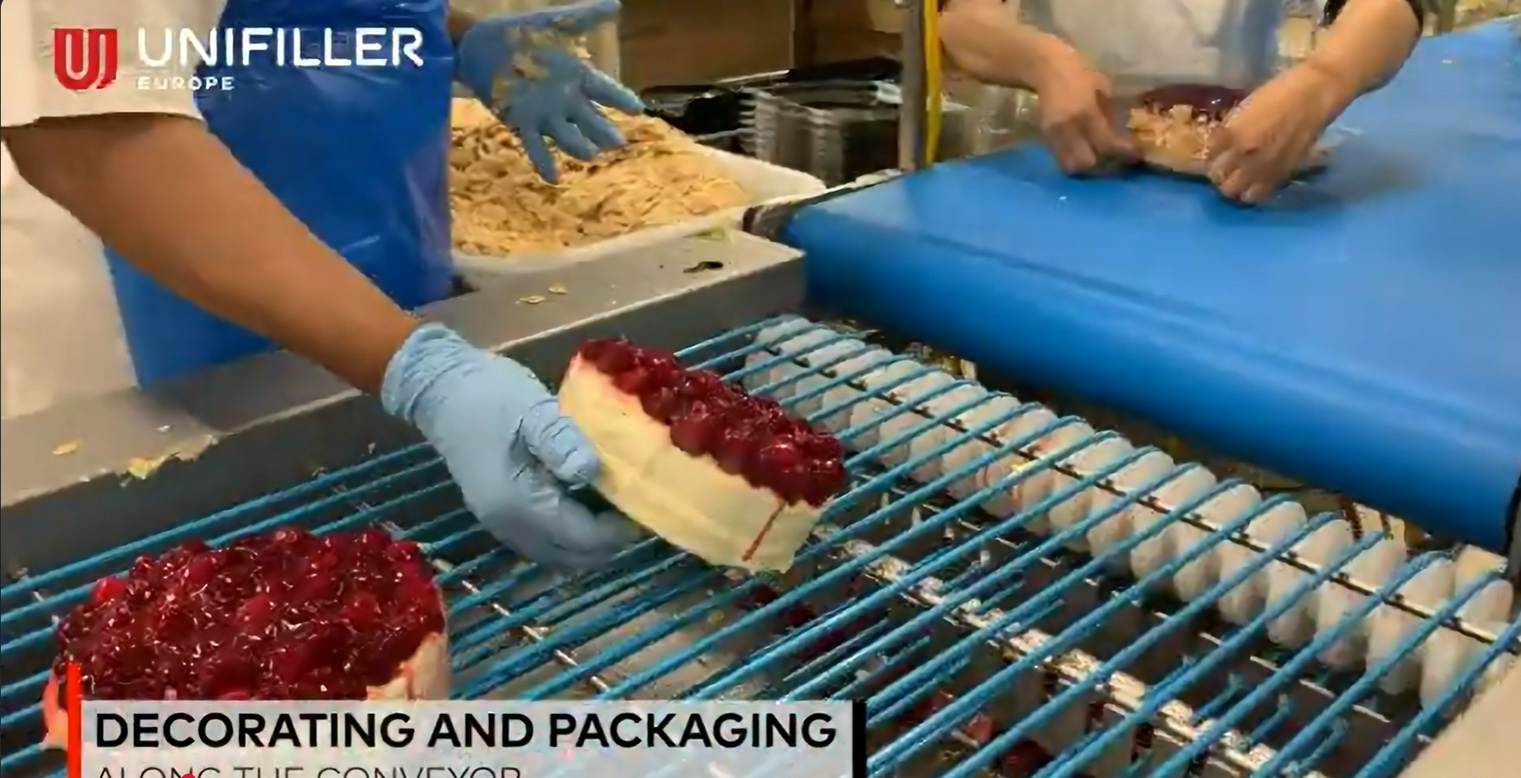Jam Coated: (37, 526, 465, 698), (558, 334, 839, 572), (1126, 76, 1249, 177)
